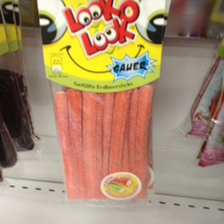candy: (41, 1, 162, 203)
